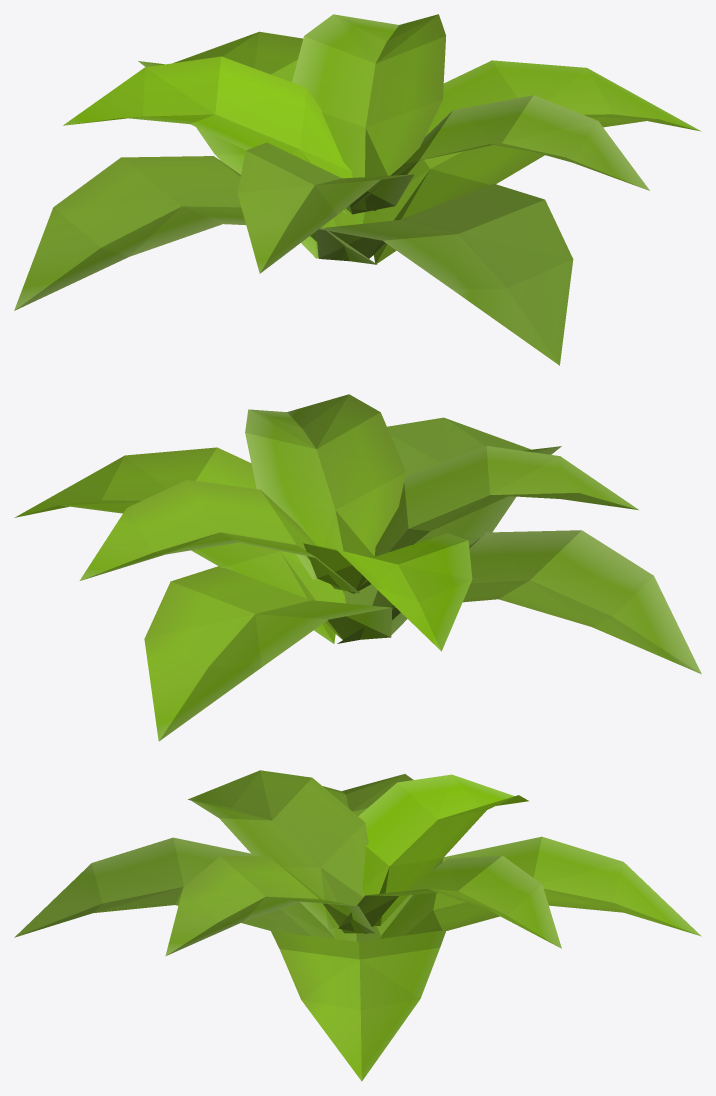
The model's file is fougere.glb.
The picture shows the model from 3 angles, top to bottom: view 1: azimuth 30°, elevation 25°; view 2: azimuth 150°, elevation 25°; view 3: azimuth 270°, elevation 25°; orthographic projection. The views are drawn at different scales.
Parts seen in each view (by area): view 1: Plant_01; view 2: Plant_01; view 3: Plant_01.
Boxes of the visible parts, box(x1,y1,x2,y2) form: Plant_01: box(14, 14, 701, 365); Plant_01: box(14, 394, 701, 741); Plant_01: box(14, 770, 701, 1081).
Size of the model in its own units: 0.8875 by 0.1895 by 0.8881.
1 material, 1 textured.
